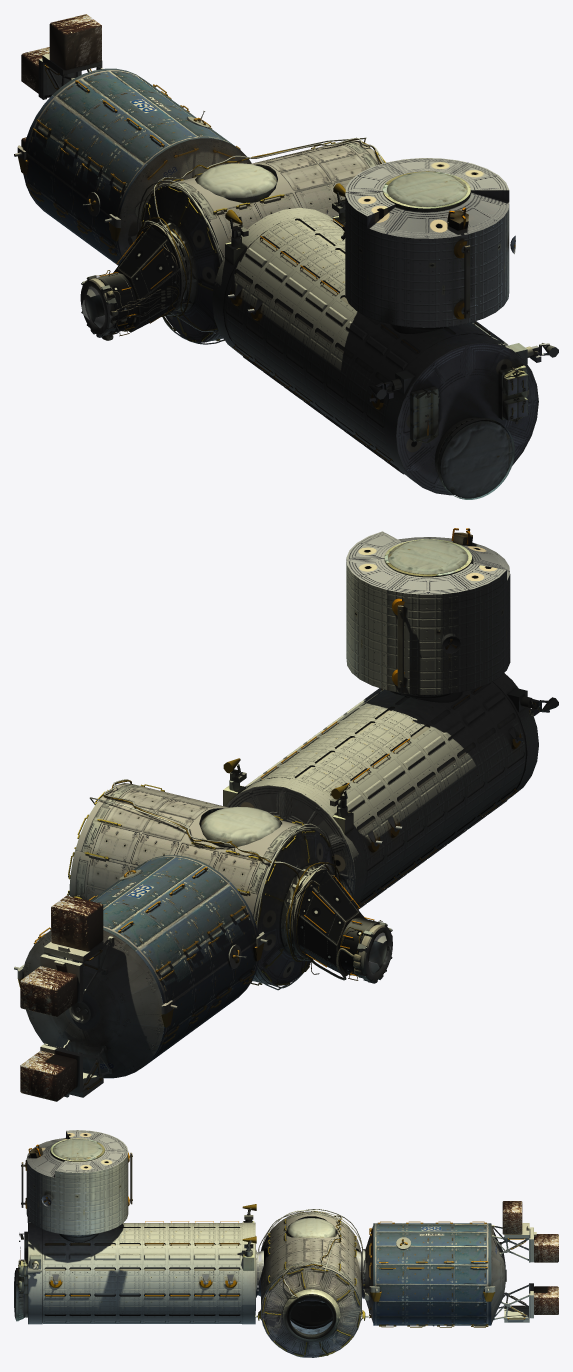
The model's file is ISS_jap_colamb.FBX.
The picture shows the model from 3 angles, top to bottom: view 1: azimuth 30°, elevation 25°; view 2: azimuth 150°, elevation 25°; view 3: azimuth 270°, elevation 25°; orthographic projection. The views are drawn at different scales.
Visible parts, largest first — view 1: kiboBody, iss_columbus_body, kiboDevices, iss_harmonyBody, pma2Body, iss_harmony_dets, iss_columbus_refra, iss_columbus_foil; view 2: kiboBody, iss_columbus_body, iss_harmonyBody, iss_columbus_refra, pma2Body, iss_columbus_foil, iss_harmony_dets, kiboDevices; view 3: kiboBody, iss_columbus_body, iss_harmonyBody, iss_harmony_dets, kiboDevices, iss_columbus_foil, iss_columbus_refra.
Boxes of the visible parts, x1,y1,x2,y2 form: kiboBody: (212,158,538,495); iss_columbus_body: (14,53,251,265); kiboDevices: (225,183,558,499); iss_harmonyBody: (143,140,382,342); pma2Body: (80,223,183,340); iss_harmony_dets: (136,137,385,344); iss_columbus_refra: (118,138,251,258); iss_columbus_foil: (21,14,101,149); kiboBody: (226,531,538,909); iss_columbus_body: (14,855,267,1097); iss_harmonyBody: (70,783,334,985); iss_columbus_refra: (22,930,163,1077); pma2Body: (291,868,392,983); iss_columbus_foil: (20,895,103,1101); iss_harmony_dets: (67,779,340,990); kiboDevices: (223,528,558,905); kiboBody: (26,1130,255,1324); iss_columbus_body: (363,1221,536,1327); iss_harmonyBody: (261,1211,361,1357); iss_harmony_dets: (255,1209,368,1357); kiboDevices: (14,1144,263,1321); iss_columbus_foil: (502,1201,558,1314); iss_columbus_refra: (356,1224,505,1324).
Bounding box in the file's own units: 36761 × 34050 × 94225.
Materials: 7 (7 with a texture image).
